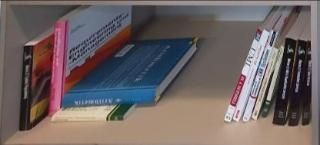book-spine: (224, 27, 263, 122), (231, 28, 270, 123), (242, 28, 277, 124), (250, 46, 280, 121), (272, 37, 297, 126), (47, 20, 67, 117), (62, 88, 157, 107), (288, 39, 308, 127), (262, 45, 285, 118), (18, 44, 35, 133), (302, 40, 312, 126), (51, 115, 124, 123)
